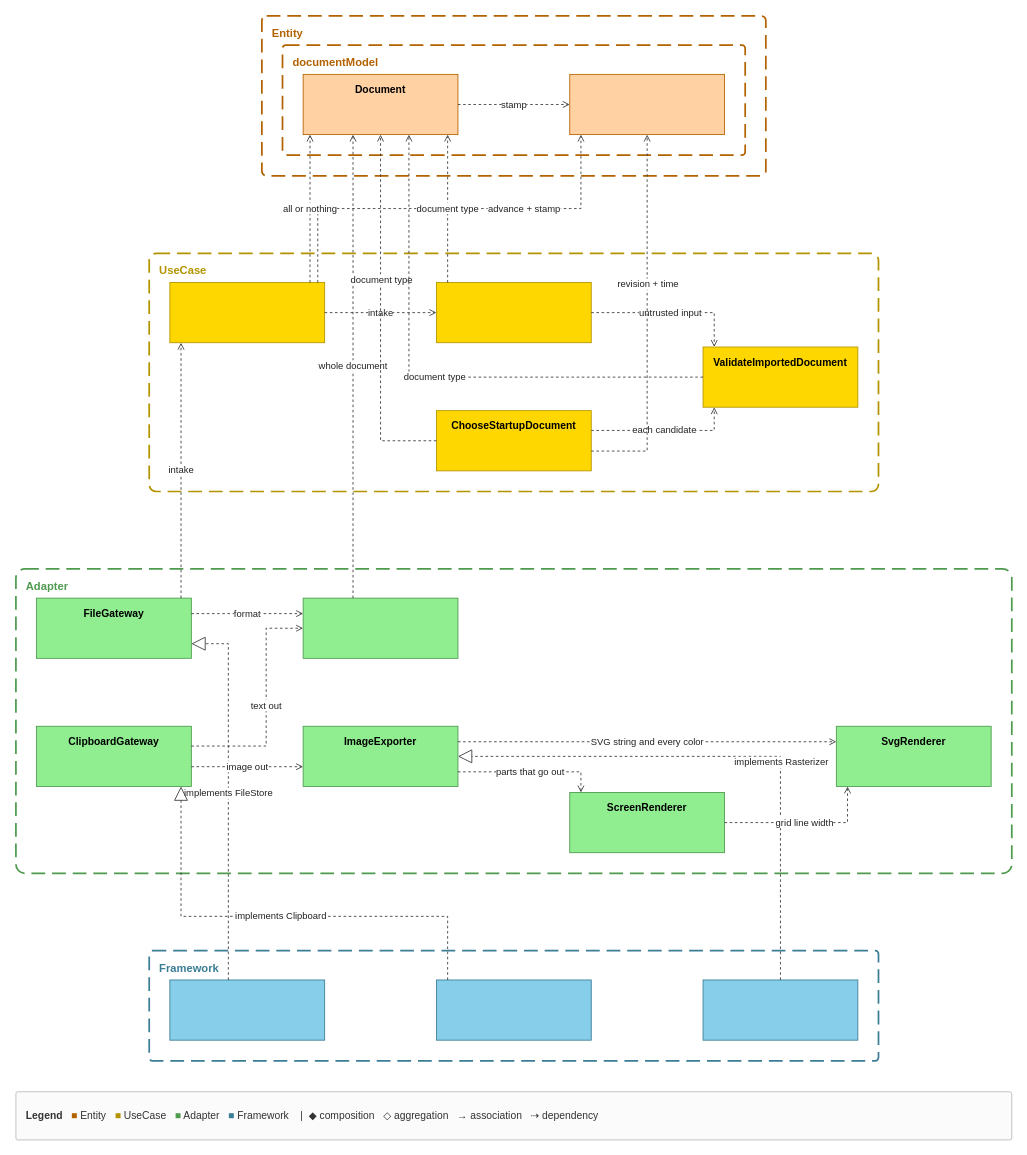
The diagram is 1027 pixels wide and 1155 high, and some of its shapes have lost their labels. The centre of each missing label's shape, as x and y in pixels:
ApplyDocumentChange: point (247, 312)
BrowserClipboard: point (513, 1009)
CanvasRasterizer: point (780, 1009)
DocumentCodec: point (380, 627)
DocumentStamp: point (647, 104)
FileSystemAccessFileStore: point (247, 1009)
ImportDocument: point (513, 312)
